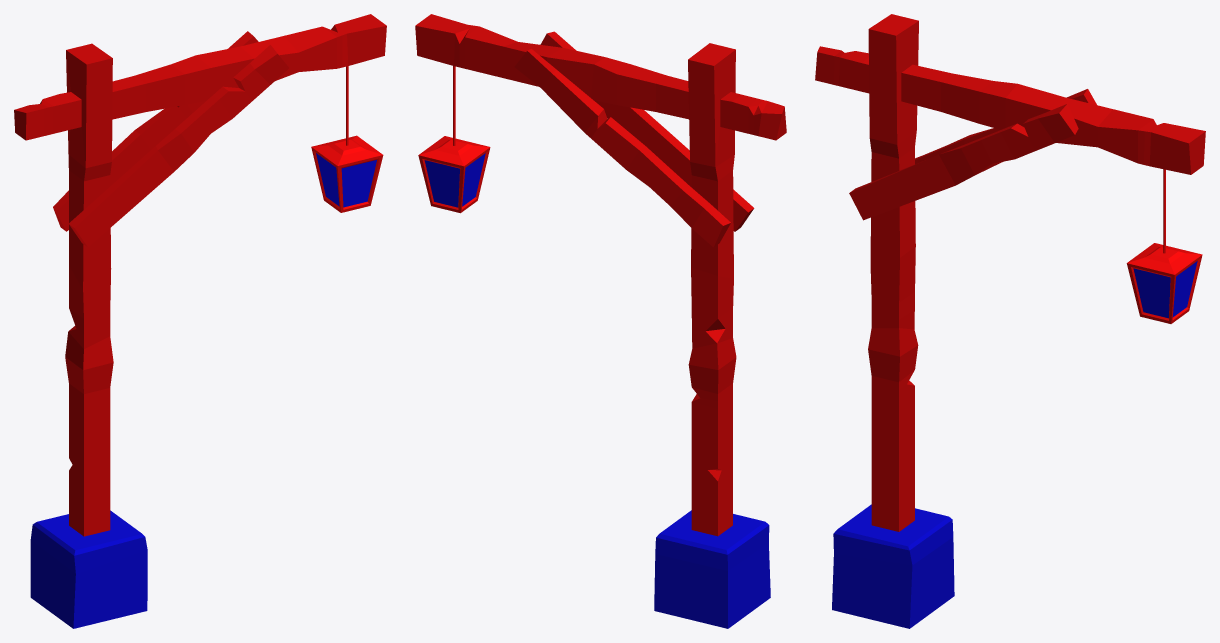
File: lampione.fbx
The picture shows the model from 3 angles, left to right: view 1: azimuth 30°, elevation 25°; view 2: azimuth 150°, elevation 25°; view 3: azimuth 330°, elevation 25°; orthographic projection. The views are drawn at different scales.
Visible parts, largest first — view 1: lampione, luce; view 2: lampione, luce; view 3: lampione, luce.
Boxes of the visible parts, x1,y1,x2,y2 form: lampione: (14, 14, 386, 628); luce: (311, 66, 383, 212); lampione: (415, 14, 786, 628); luce: (418, 66, 490, 213); lampione: (815, 14, 1205, 628); luce: (1126, 169, 1202, 323).
Size of the model in its own units: 264 by 383 by 54.19.
